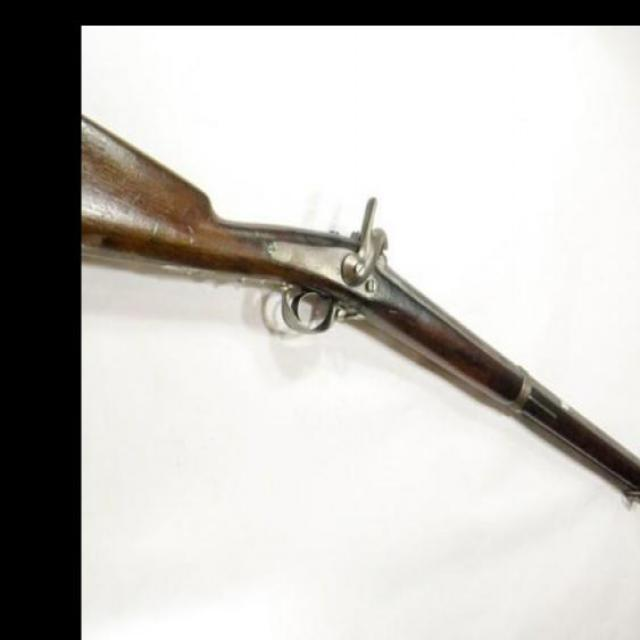weapon: (81, 115, 640, 501)
